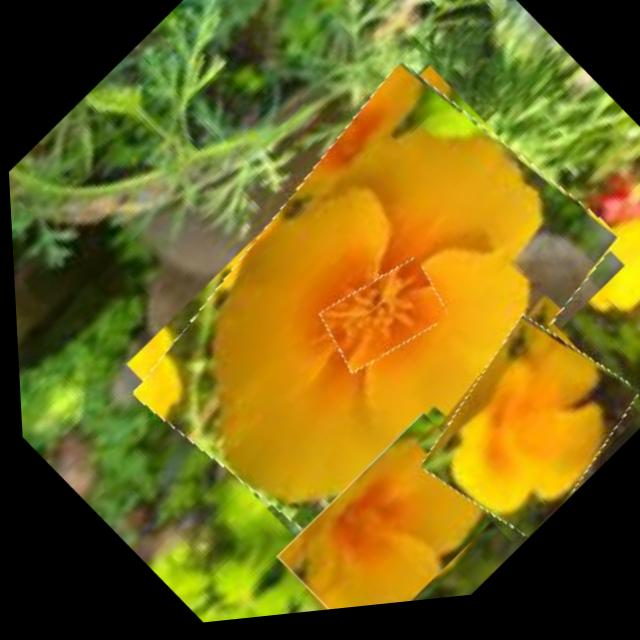Flower: (98, 42, 640, 600), (393, 304, 640, 570), (263, 411, 510, 620), (306, 247, 453, 396)
